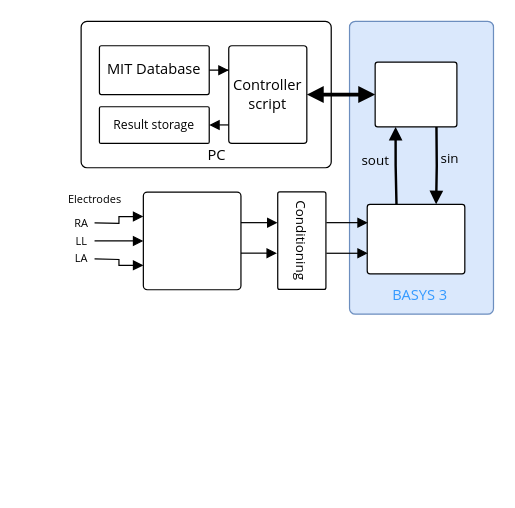
Some shapes in this 515 by 508 pixel diagram are drawn without their labels. The shapes that lost their labels are listed below. From the top down, each one's centre as x and y in pixels, then its label:
point (415, 94): USB-UART Bridge
point (191, 240): Filtering & Amplification
point (415, 238): FPGA
